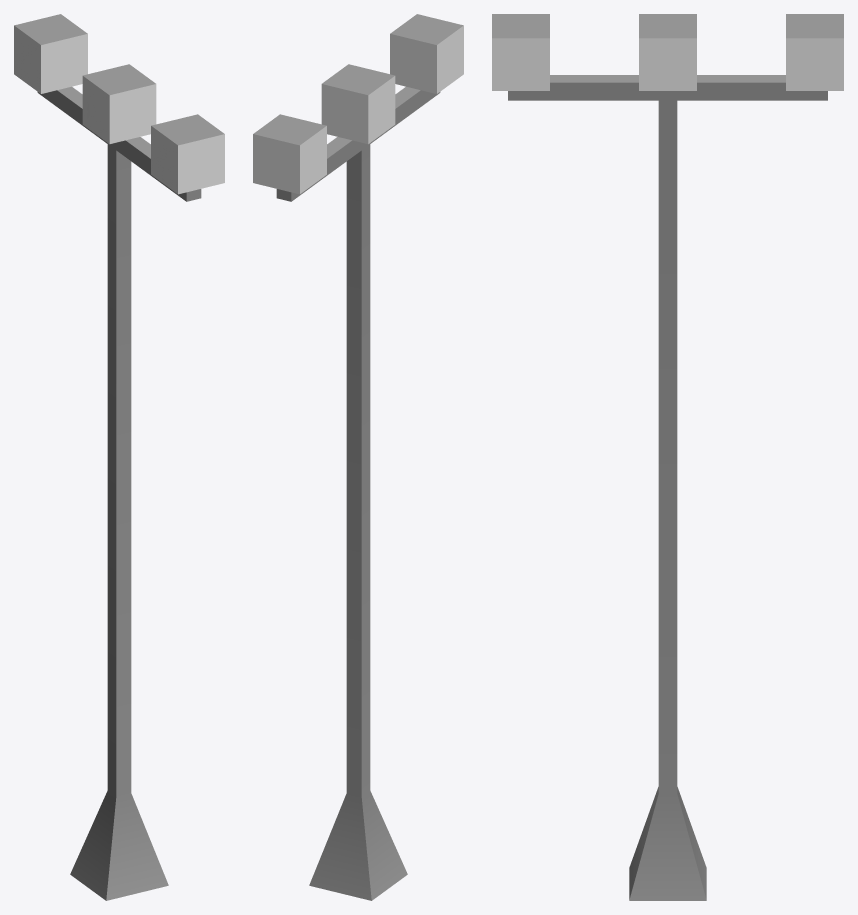
The model's file is APLightA.fbx.
3 renders of one model, left to right at view 1: azimuth 30°, elevation 25°; view 2: azimuth 150°, elevation 25°; view 3: azimuth 270°, elevation 25°, orthographic. The views are drawn at different scales.
Visible parts, largest first — view 1: APLightA; view 2: APLightA; view 3: APLightA.
Part boxes in pixels (x1=…): APLightA: x1=14, y1=14, x2=224, y2=900; APLightA: x1=253, y1=14, x2=463, y2=900; APLightA: x1=492, y1=14, x2=843, y2=900.
Bounding box in the file's own units: 48.31 × 590 × 219.
1 material, 1 textured.
